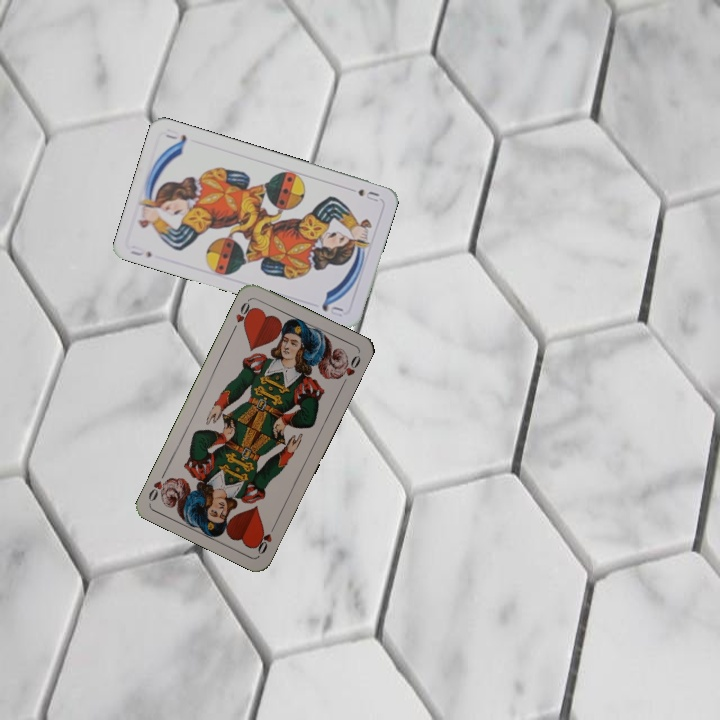HO: (228, 296, 256, 334), (252, 519, 278, 557)
SU: (354, 184, 382, 204), (126, 246, 154, 260)
